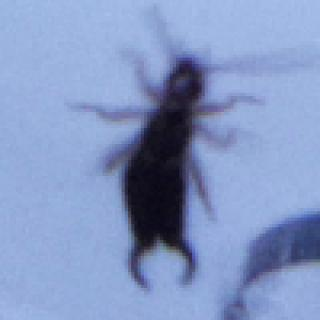earwig: (67, 8, 307, 292)
